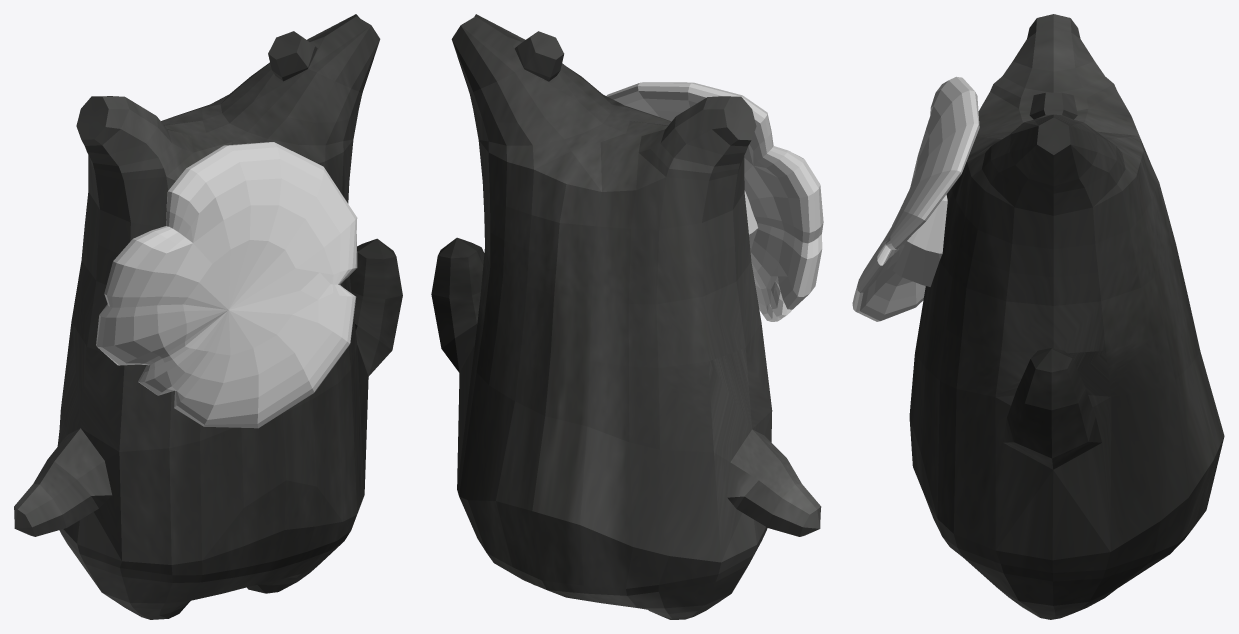
File: frame_0042.obj
3 views of the same model, side by side, from view 1: azimuth 30°, elevation 25°; view 2: azimuth 150°, elevation 25°; view 3: azimuth 270°, elevation 25° (orthographic). The views are drawn at different scales.
Visible parts, largest first — view 1: korok, leaf; view 2: korok, leaf; view 3: korok, leaf, nose.
Boxes of the visible parts, x1,y1,x2,y2 form: korok: [14, 14, 402, 619]; leaf: [96, 142, 357, 428]; korok: [431, 14, 821, 619]; leaf: [606, 82, 823, 321]; korok: [909, 14, 1224, 619]; leaf: [852, 76, 979, 321]; nose: [892, 194, 947, 286].
Size of the model in its own units: 1.61 by 2.22 by 1.38.
